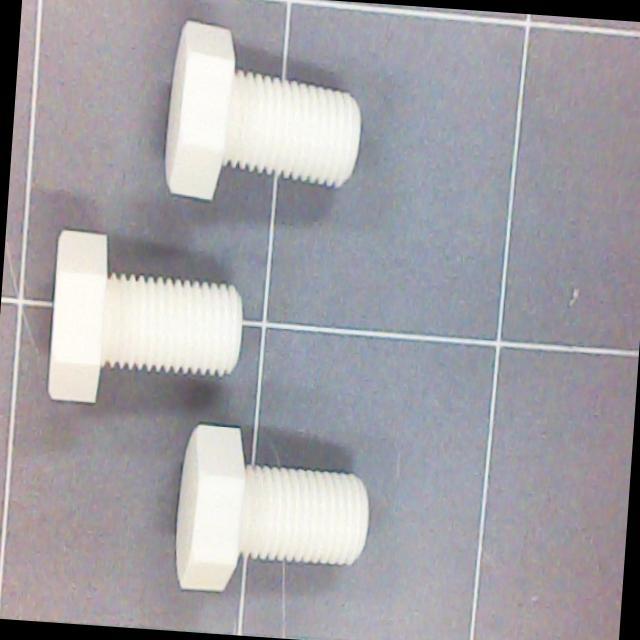bolts: (153, 21, 374, 222), (42, 227, 249, 418), (171, 422, 373, 604)
